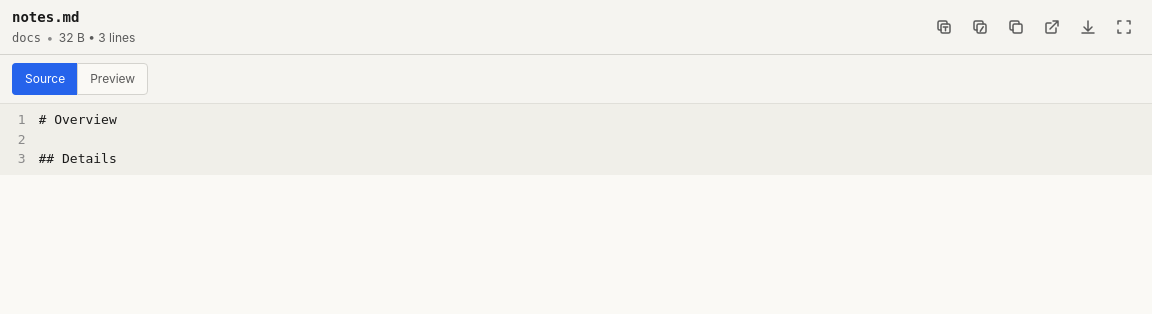
Test: FileViewer › restores the Markdown table of contents in preview mode
Click the button "Preview". click: {"x": 113, "y": 79}
box: [77, 63, 148, 95]
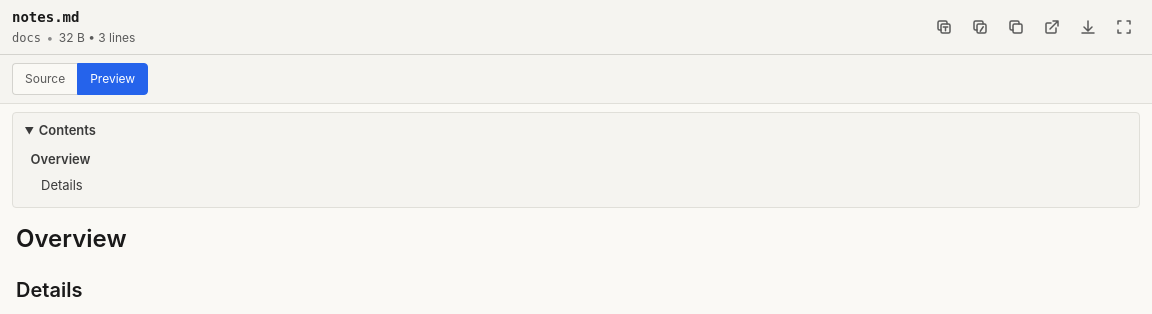
Now the heading "Contents" is shown, box [39, 122, 96, 138]
Now the button "Overview" is shown, box [25, 147, 1127, 173]
Now the button "Details" is shown, box [25, 173, 1127, 199]
